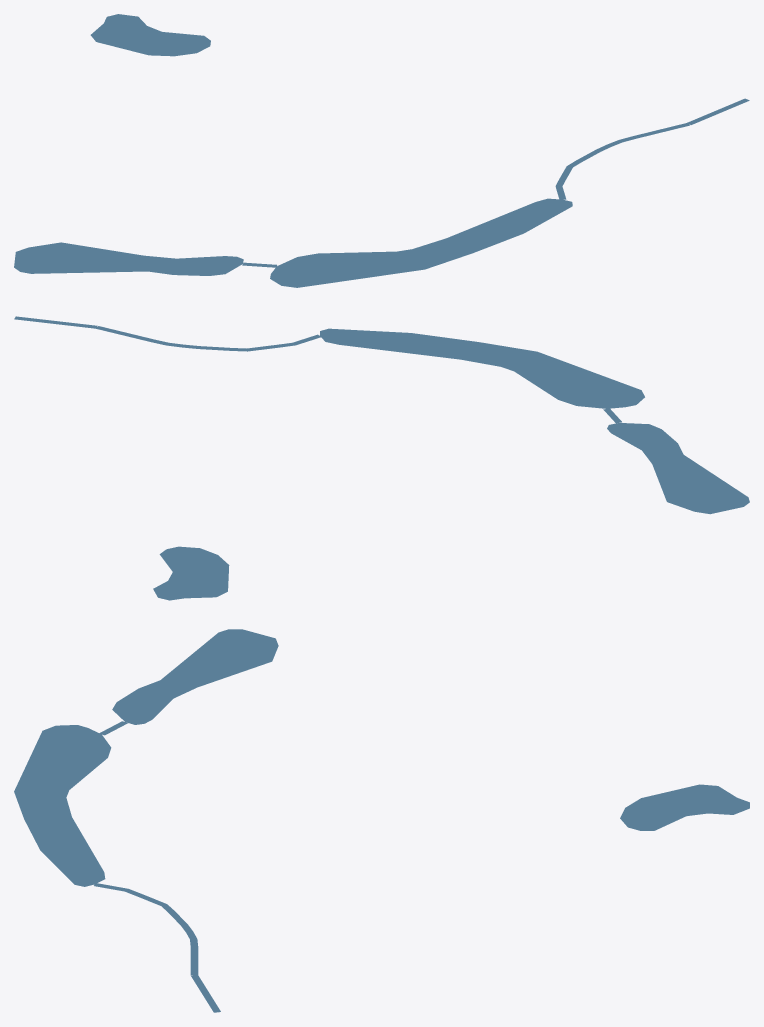
Rendered from c_1646_17833_water.glb.
The picture shows the model from 3 angles, top to bottom: view 1: azimuth 30°, elevation 25°; view 2: azimuth 150°, elevation 25°; view 3: azimuth 270°, elevation 25°; orthographic projection. The views are drawn at different scales.
Parts seen in each view (by area): view 1: geometry_0; view 2: geometry_0; view 3: geometry_0.
Boxes of the visible parts, left/top/right/bottom form: geometry_0: left=14, top=14, right=749, bottom=287; geometry_0: left=14, top=316, right=749, bottom=600; geometry_0: left=14, top=629, right=749, bottom=1012.
Bounding box in the file's own units: 299 × 0.01 × 243.
